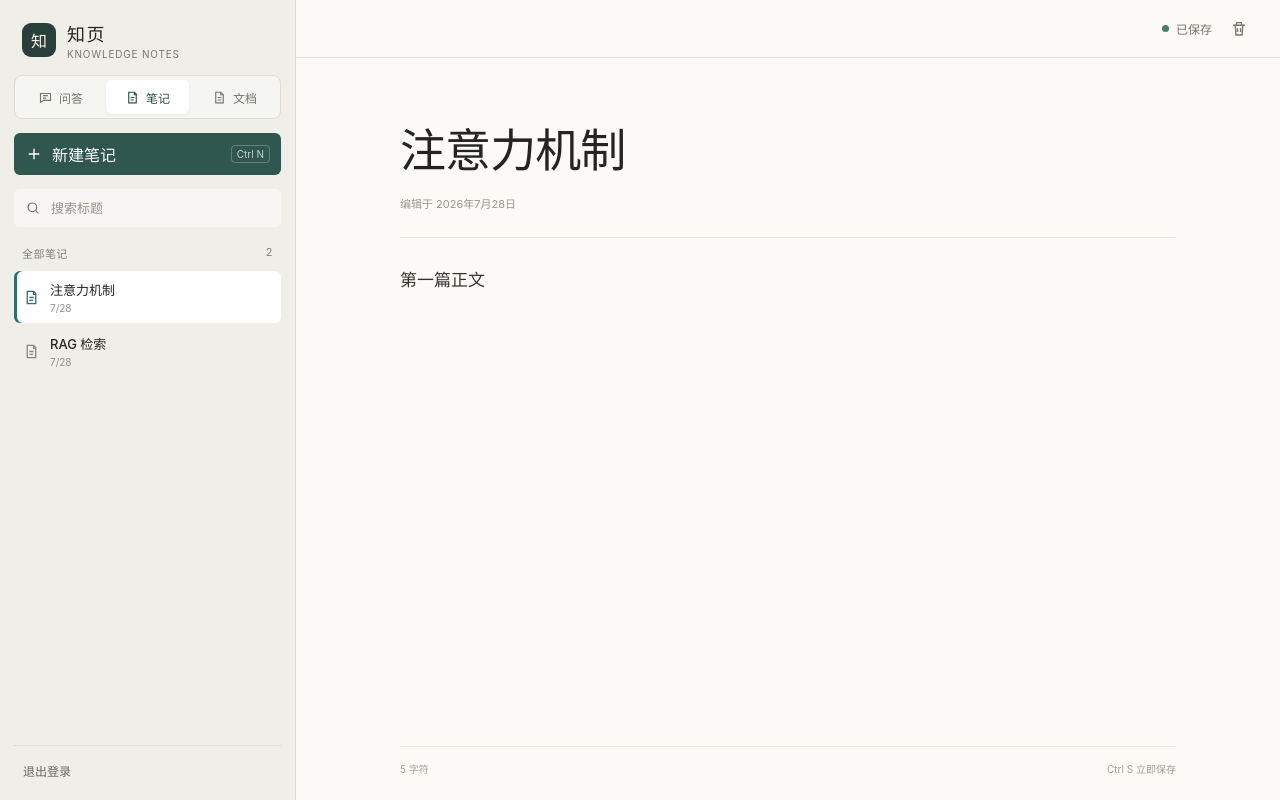
笔记工作区 › 删除确认后立即从列表移除，不等待后端清理向量
Expected: the text box showing "第一篇正文" is shown, [400,265,1176,716]
Click the button named "删除当前笔记". click: (1239, 28)
box: [1222,12,1256,46]
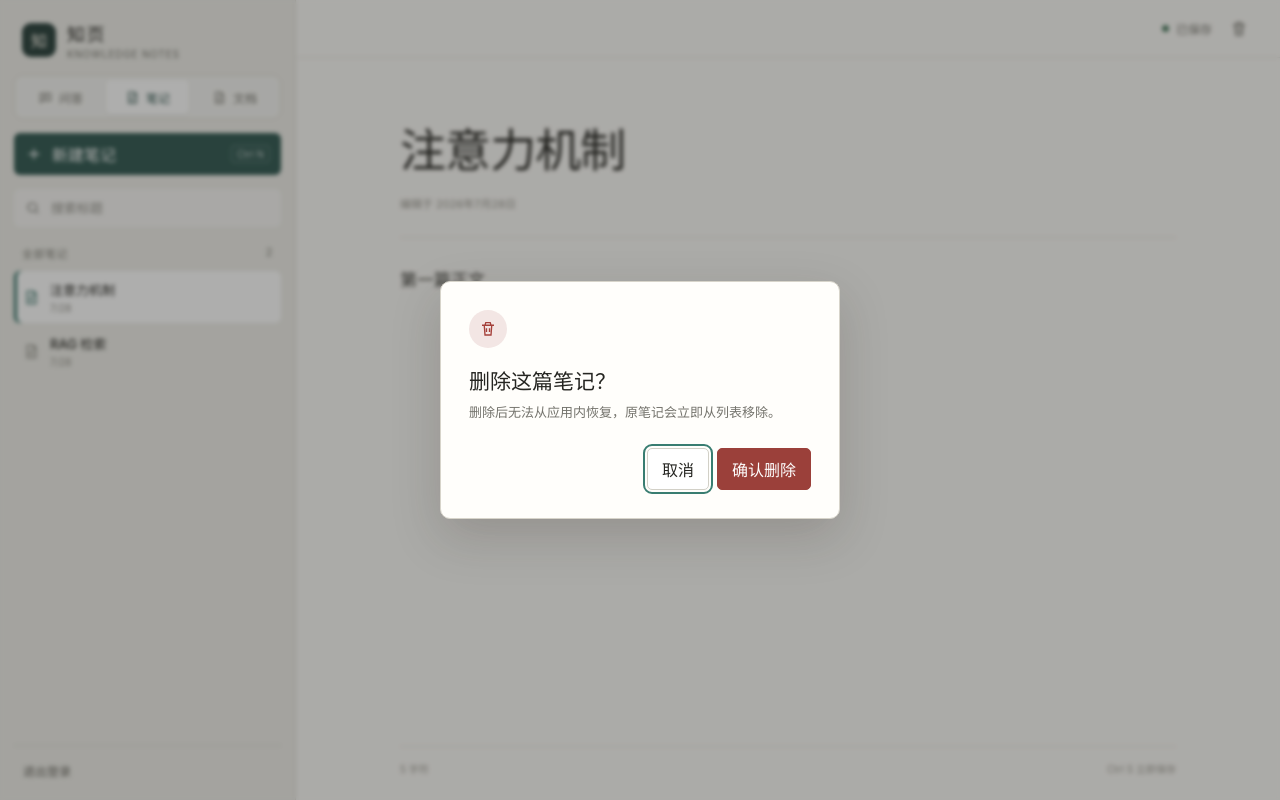
Click the button "确认删除". click: (764, 469)
box: [717,448,811,490]
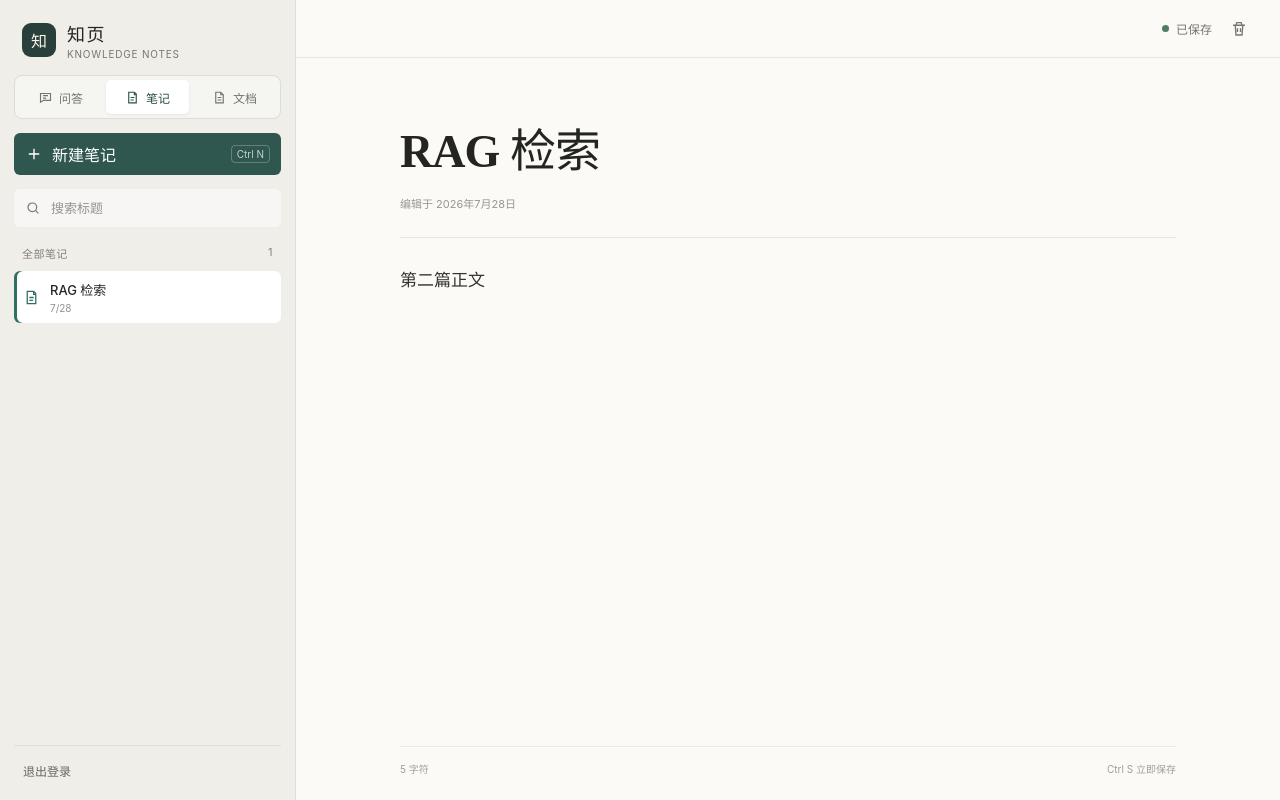
Result: the button "注意力机制" is gone
